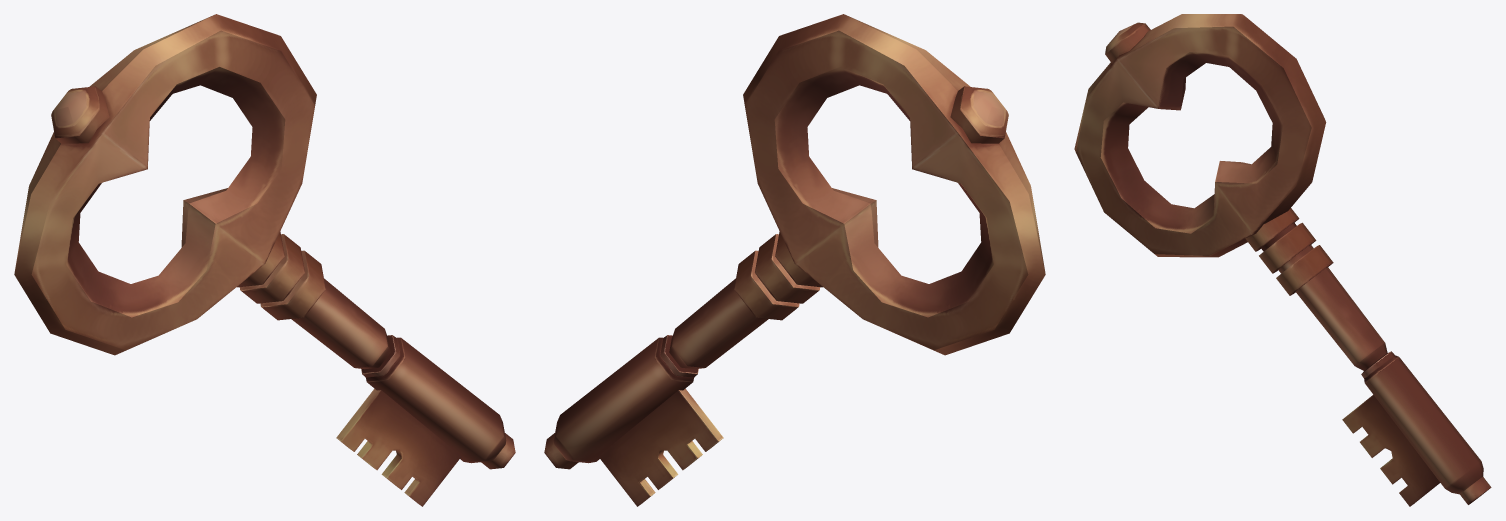
File: 48_Bronz key.FBX
The picture shows the model from 3 angles, left to right: view 1: azimuth 30°, elevation 25°; view 2: azimuth 150°, elevation 25°; view 3: azimuth 330°, elevation 25°; orthographic projection. The views are drawn at different scales.
Visible parts, largest first — view 1: 48_bronz key; view 2: 48_bronz key; view 3: 48_bronz key.
Part boxes in pixels (box(x1,y1,x2,y2)): 48_bronz key: box(14, 14, 515, 506); 48_bronz key: box(544, 14, 1045, 506); 48_bronz key: box(1074, 14, 1491, 506).
Size of the model in its own units: 41.09 by 42.56 by 5.17.
